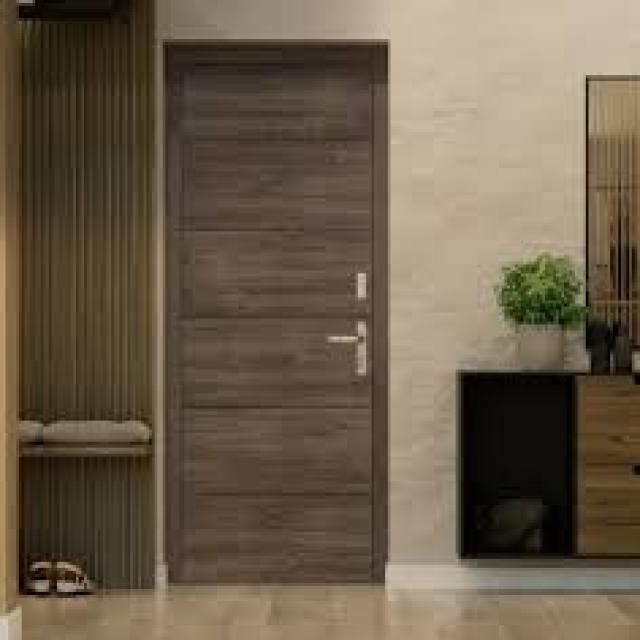door: (164, 39, 389, 586)
